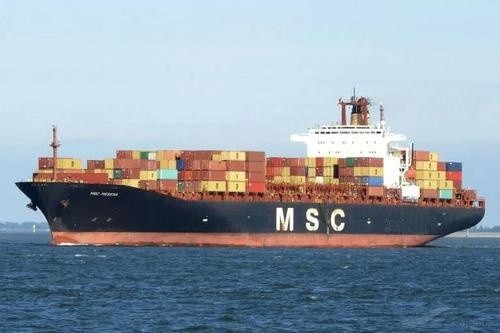Cargoship: (13, 82, 487, 249)
